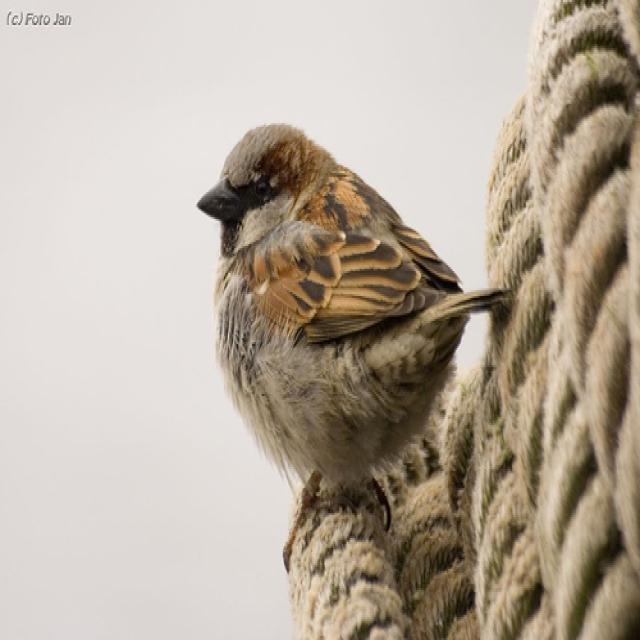not_pig: (194, 119, 510, 563)
